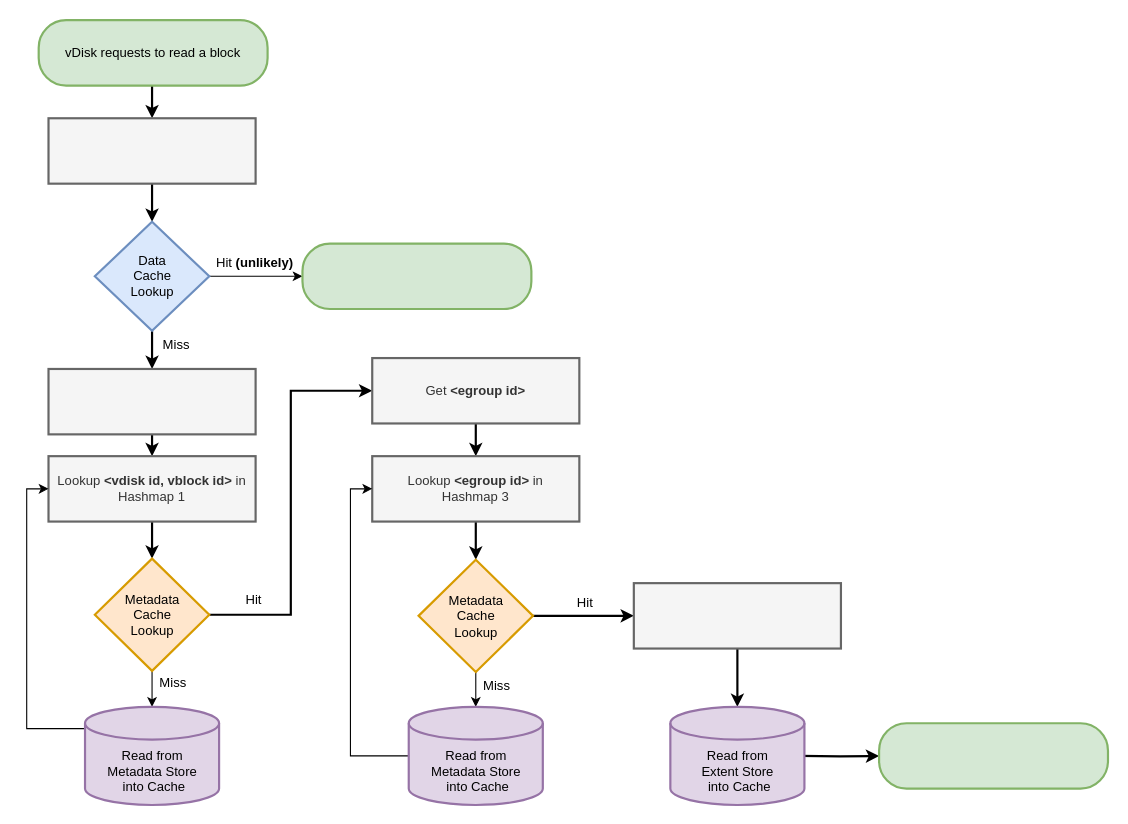
Some shapes in this 1128 by 824 pixel diagram are drawn without their labels. The box of each missing label's shape, as (x1, y1, x2, y2) in pixels:
Check if the block exists in the Data Cache: (47, 117, 256, 184)
Compute/Fetch the vdisk id and vblock number: (47, 367, 256, 435)
Get <egroup file path, offset>: (632, 582, 841, 649)
Serve the block: (301, 242, 532, 310)
Serve the block from cache: (877, 722, 1109, 789)
